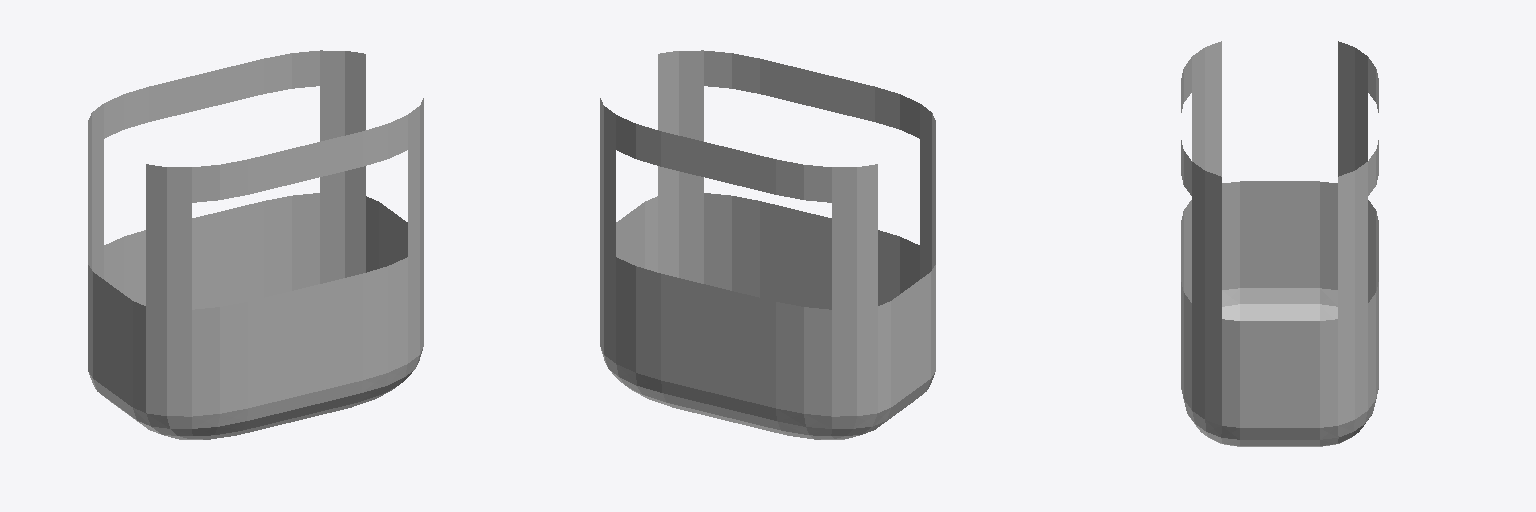
File: bag3-2.obj
The picture shows the model from 3 angles: view 1: azimuth 30°, elevation 25°; view 2: azimuth 150°, elevation 25°; view 3: azimuth 270°, elevation 25°; orthographic projection.
Visible parts, largest first — view 1: Cube-0-1.104_Cube.219; view 2: Cube-0-1.104_Cube.219; view 3: Cube-0-1.104_Cube.219.
Boxes of the visible parts, x1,y1,x2,y2 form: Cube-0-1.104_Cube.219: [88, 50, 423, 439]; Cube-0-1.104_Cube.219: [600, 50, 935, 439]; Cube-0-1.104_Cube.219: [1181, 41, 1378, 446].
Bounding box in the file's own units: 2 × 1.96 × 1.2.